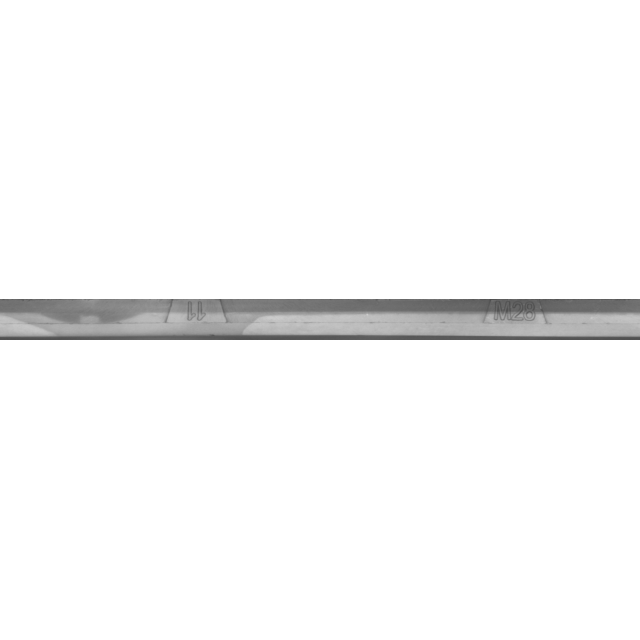mohao: (420, 270, 620, 370)
xuehao: (96, 270, 296, 370)
